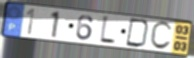1: (49, 10, 61, 39), (25, 8, 36, 37)
6: (76, 14, 94, 42)
C: (149, 21, 174, 52)
D: (124, 17, 151, 49)
L: (99, 14, 117, 46)
